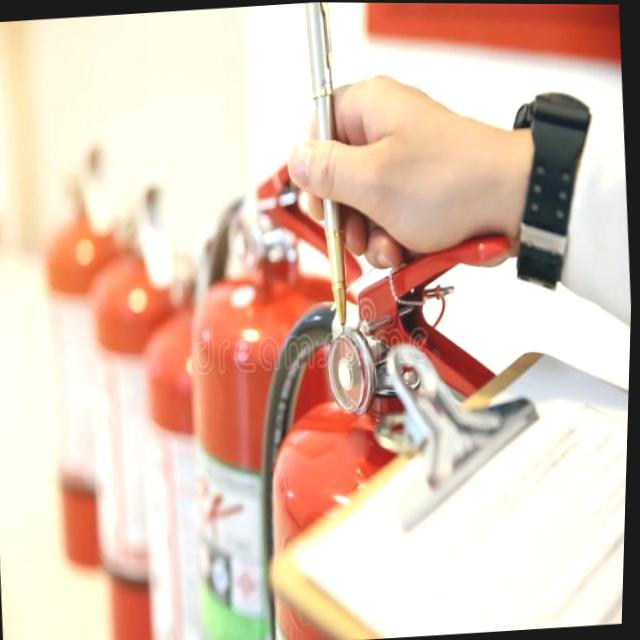FireExtinguisher: (157, 127, 447, 640), (234, 218, 555, 640)
